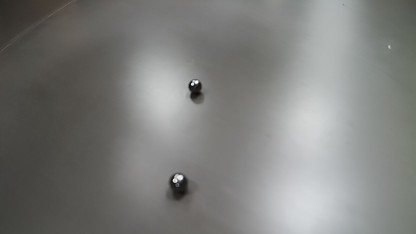ironball: (169, 172, 188, 193), (188, 79, 202, 92)
